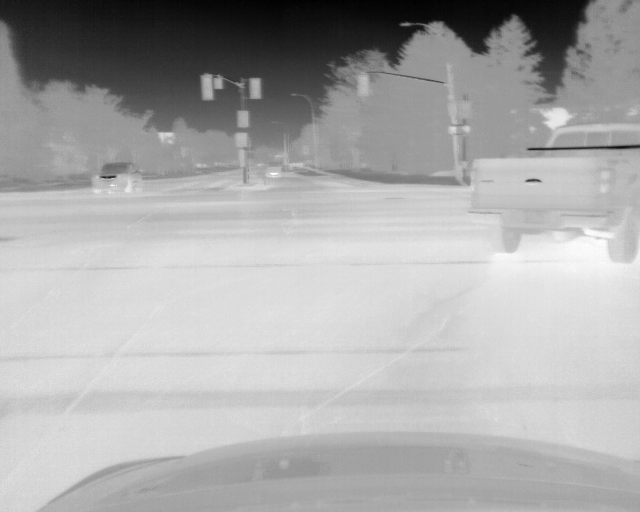car: (469, 123, 640, 262), (92, 161, 144, 195), (264, 161, 283, 178)
